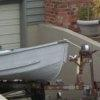Boat: (2, 34, 72, 92)
